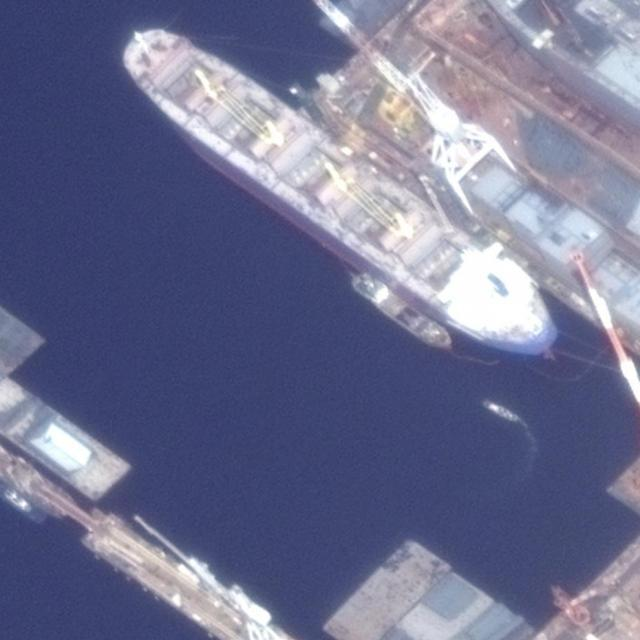Cargo: (97, 7, 579, 381)
Other Ship: (341, 263, 458, 358)
